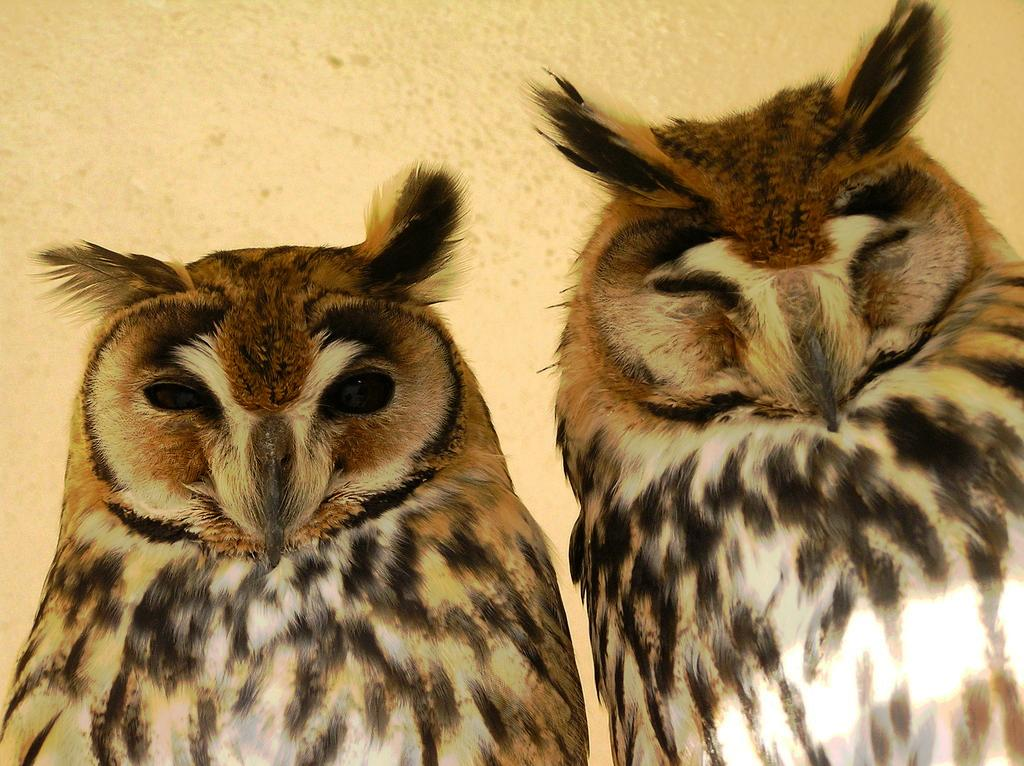Owl: (516, 0, 1024, 765), (0, 166, 590, 762)
